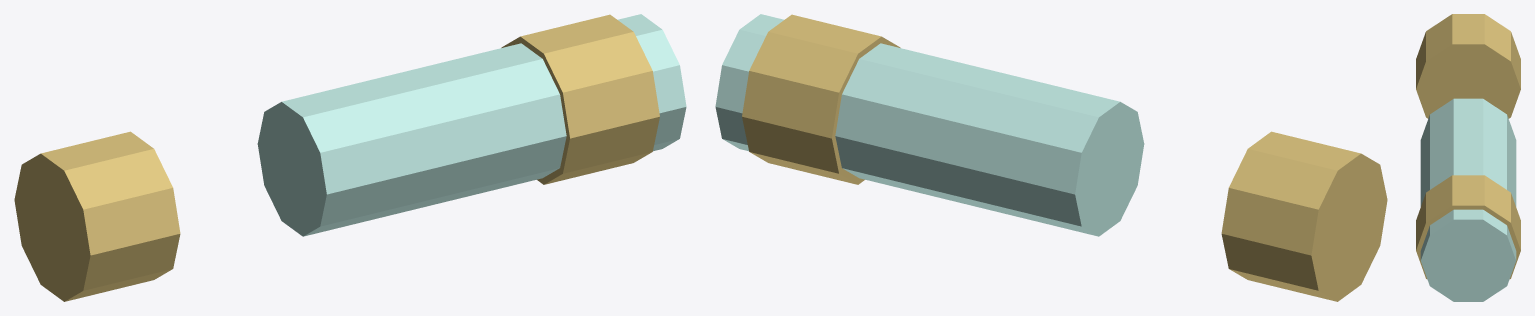
The model's file is item_fuse.glb.
3 renders of one model, left to right at view 1: azimuth 30°, elevation 25°; view 2: azimuth 150°, elevation 25°; view 3: azimuth 270°, elevation 25°, orthographic. The views are drawn at different scales.
Parts seen in each view (by area): view 1: body; view 2: body; view 3: body.
Boxes of the visible parts, <box> form: body: <box>14,14,686,301</box>; body: <box>715,14,1387,301</box>; body: <box>1416,14,1520,301</box>.
Size of the model in its own units: 0.1 by 0.0209 by 0.022.
